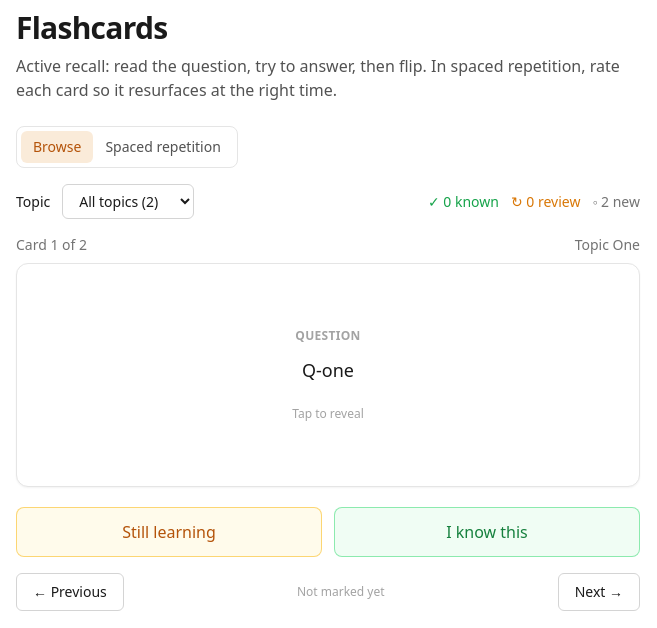
Scenario: FlashcardDeck › advances to the next card after marking
The width and height of the screenshot is (657, 628).
Expected: the text "Q-one" is shown, [302,356,354,386]
Click the button "Still learning": (169, 532) [16,507,322,557]
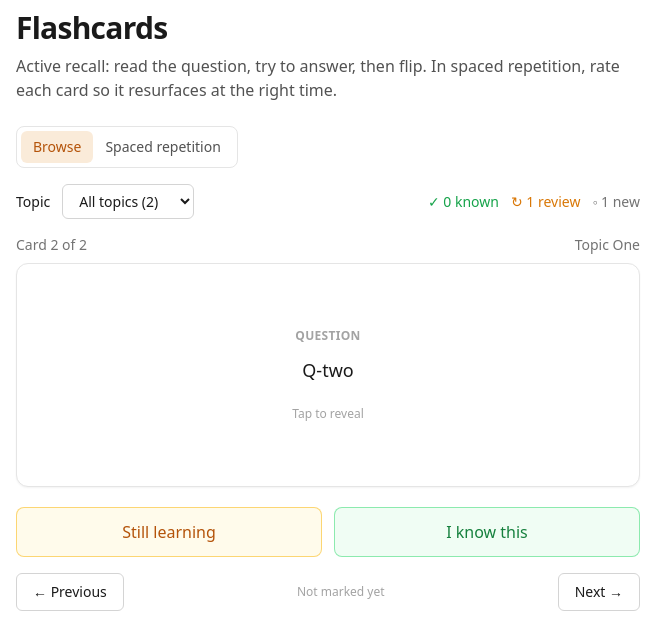
Expected: the text "Q-two" is shown, [302,356,354,386]
